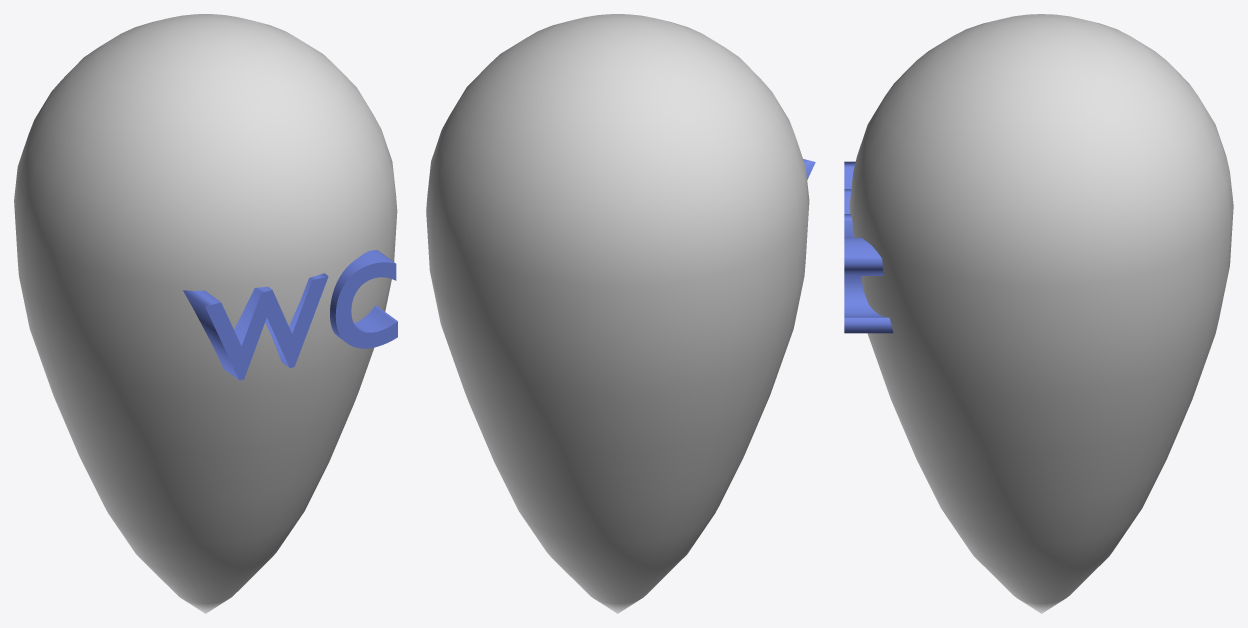
3 renders of one model, left to right at view 1: azimuth 30°, elevation 25°; view 2: azimuth 150°, elevation 25°; view 3: azimuth 270°, elevation 25°, orthographic.
Parts seen in each view (by area): view 1: pin, Text.007; view 2: pin; view 3: pin, Text.007.
Part boxes in pixels (box(x1,y1,x2,y2)): pin: box(14, 14, 397, 613); Text.007: box(183, 250, 397, 380); pin: box(426, 14, 809, 613); pin: box(849, 14, 1233, 613); Text.007: box(844, 161, 893, 333).
Size of the model in its own units: 0.2435 by 0.4072 by 0.2468.
